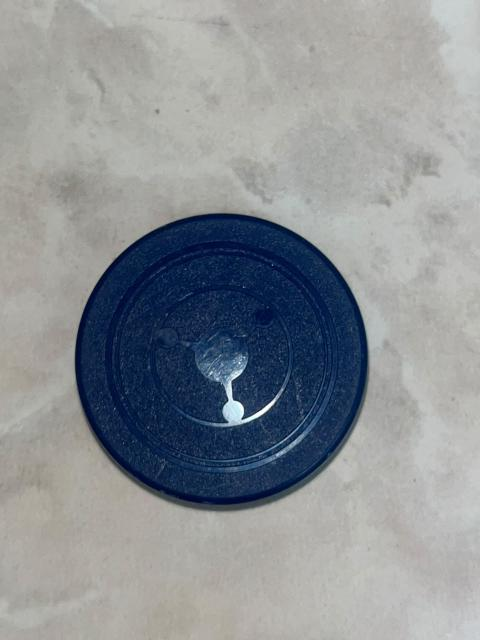HDPE: (52, 199, 387, 529)
